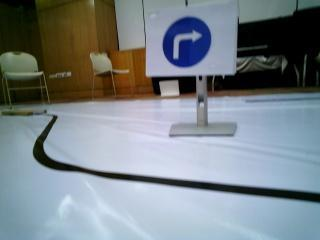right: (149, 12, 238, 77)
